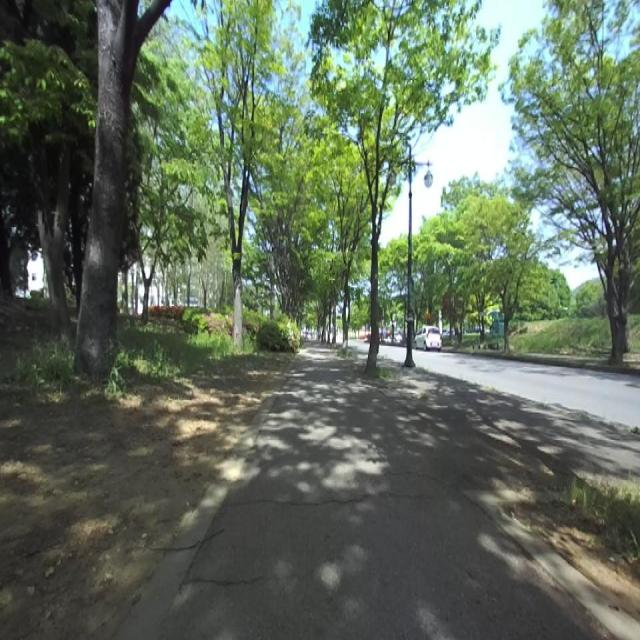sidewalk: (159, 343, 640, 639)
